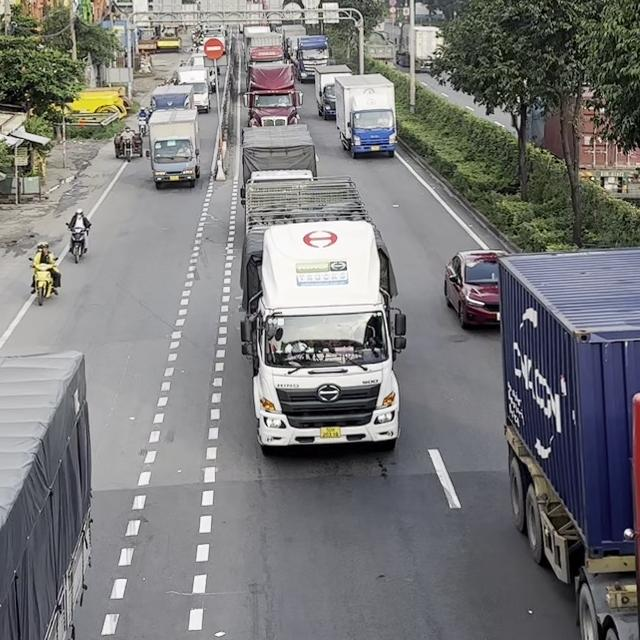car: (443, 248, 510, 329)
motorcycle: (28, 256, 60, 306), (65, 222, 90, 263), (113, 129, 143, 161)
truck: (496, 245, 639, 639), (239, 177, 388, 451), (0, 349, 93, 639), (239, 123, 317, 203), (334, 73, 397, 158), (145, 107, 201, 189), (244, 59, 303, 126), (312, 64, 353, 120), (291, 34, 330, 83), (149, 84, 196, 112)
